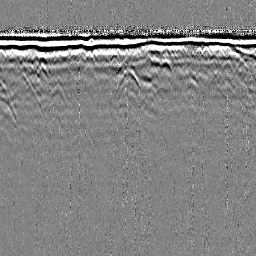cavity: (115, 65, 142, 89)
